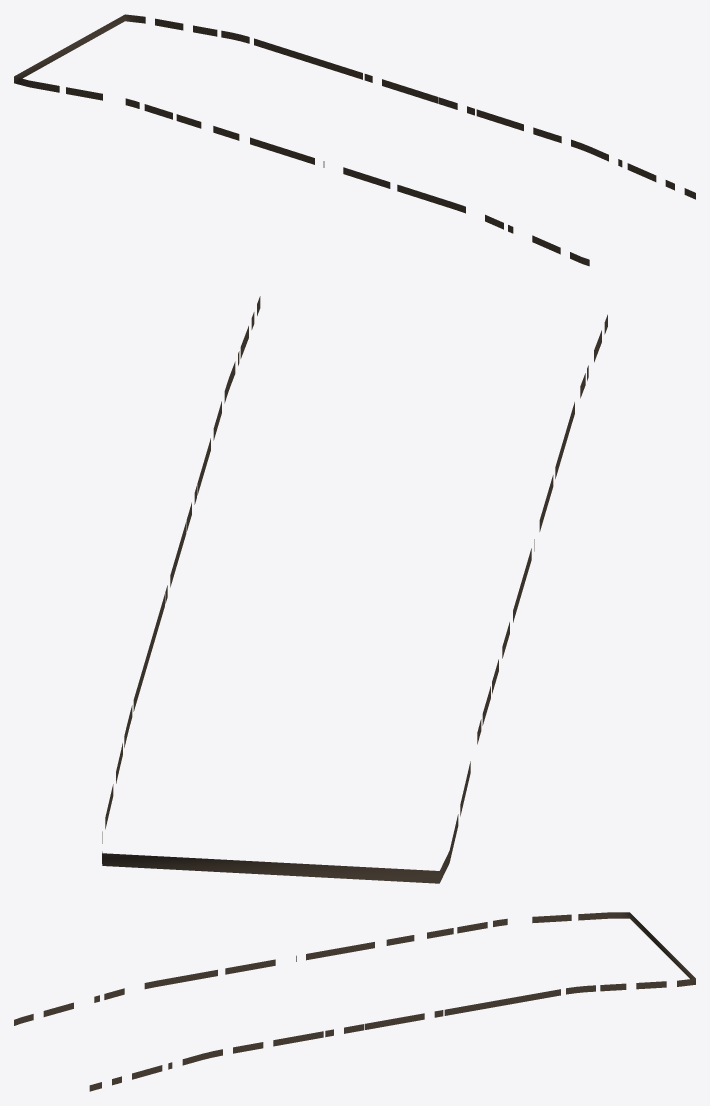
3 views of the same model, one above another, from view 1: azimuth 30°, elevation 25°; view 2: azimuth 150°, elevation 25°; view 3: azimuth 270°, elevation 25° (orthographic). The views are drawn at different scales.
Parts seen in each view (by area): view 1: prototype; view 2: prototype; view 3: prototype.
Part boxes in pixels (<box>): prototype: <box>14,14,695,266</box>; prototype: <box>102,296,607,883</box>; prototype: <box>14,912,695,1091</box>.
Size of the model in its own units: 18.97 by 1.07 by 31.14.
